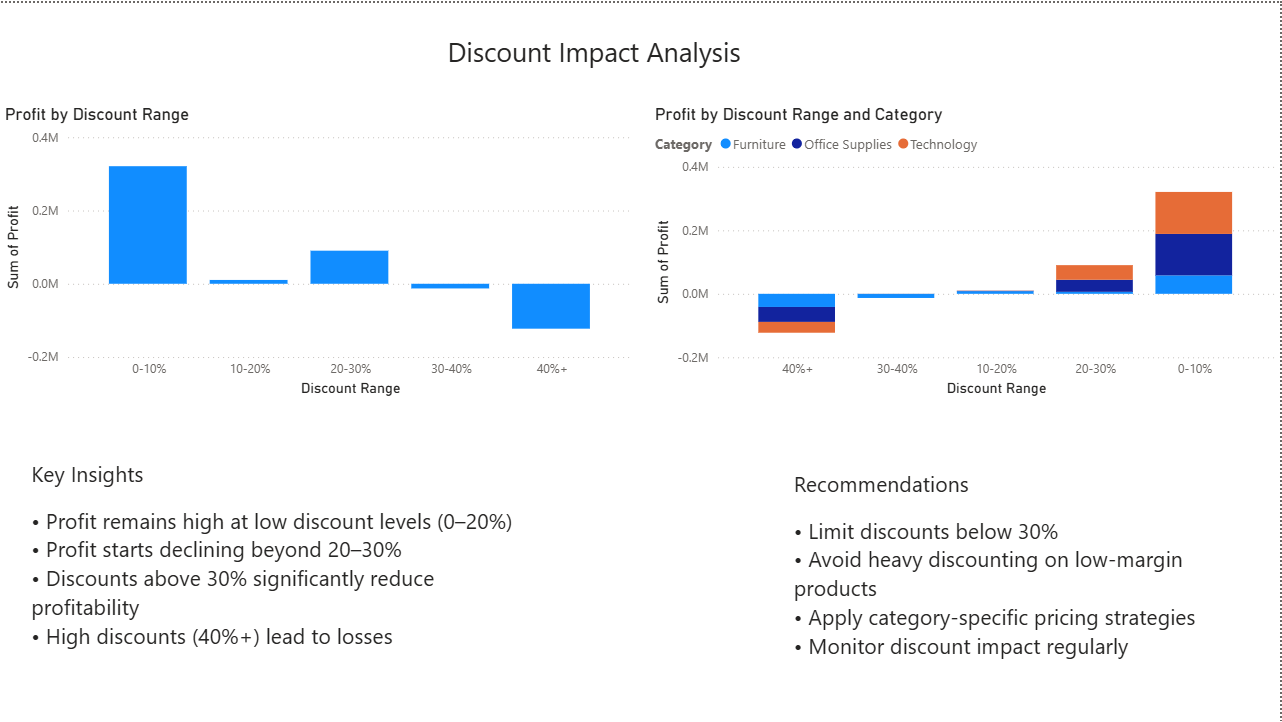

Layout of this report page (visuals, bound fields, positions):
{"tool":"powerbi","page":{"name":"Discount Analysis","canvas":[1280,720],"ordinal":1},"visuals":[{"type":"textbox","box":[442.7,24.5,393.8,63.6],"z":0},{"type":"clusteredColumnChart","title":"Profit by Discount Range","fields":{"Category":["Superstore.Discount Range"],"Y":["Sum(Superstore.Profit)"]},"box":[0,101.3,638.2,296.8],"z":1},{"type":"columnChart","title":"Profit by Discount Range and Category","fields":{"Category":["Superstore.Discount Range"],"Series":["Superstore.Category"],"Y":["Sum(Superstore.Profit)"]},"box":[650.3,101.3,629.8,296.8],"z":3},{"type":"textbox","box":[26.5,451.2,493.4,230.4],"z":4},{"type":"textbox","box":[789,460.9,452.4,220.8],"z":5}]}

Visuals, with their boxes in screenshot pixels (x1, y1, x2, y2), scaled from the page's 1280x720 canvas onto the 1282x722 screenshot:
textbox: 443:25:838:88
"Profit by Discount Range" clusteredColumnChart: 0:102:639:399
"Profit by Discount Range and Category" columnChart: 651:102:1281:399
textbox: 27:452:521:683
textbox: 790:462:1243:684
